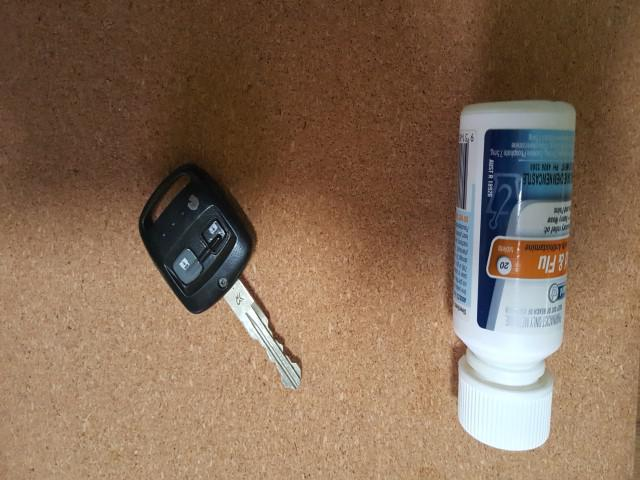key: (140, 170, 304, 304)
